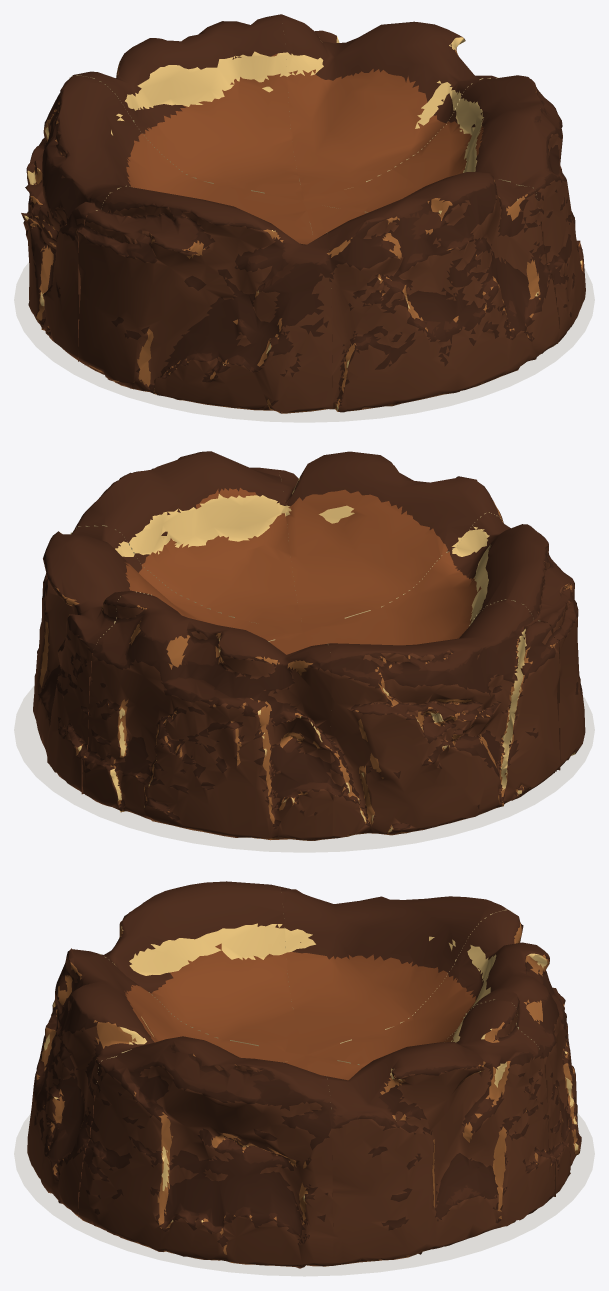
Rendered from BasqueCheesecakeSliced.gltf.
3 views of the same model, one above another, from view 1: azimuth 30°, elevation 25°; view 2: azimuth 150°, elevation 25°; view 3: azimuth 270°, elevation 25° (orthographic).
Parts seen in each view (by area): view 1: Slice4, Slice5, Slice1, Slice2, Slice3, Slice6, Board; view 2: Slice2, Slice3, Slice6, Slice5, Slice4, Slice1, Board; view 3: Slice6, Slice1, Slice4, Slice3, Slice5, Slice2, Board.
Boxes of the visible parts, x1,y1,x2,y2 form: Slice4: (78,186,332,413); Slice5: (304,172,559,412); Slice1: (281,14,498,201); Slice2: (69,14,304,201); Slice3: (21,75,303,365); Slice6: (305,75,585,343); Board: (14,262,594,422); Slice2: (81,592,332,840); Slice3: (304,599,560,838); Slice6: (70,451,304,631); Slice5: (278,451,503,631); Slice4: (305,512,585,772); Slice1: (33,526,303,794); Board: (14,685,594,852); Slice6: (78,1036,333,1268); Slice1: (304,999,555,1265); Slice4: (98,881,304,1055); Slice3: (279,886,510,1055); Slice5: (27,948,303,1218); Slice2: (305,910,581,1196); Board: (14,1113,594,1276).
Size of the model in its own units: 3.12 by 1.14 by 3.12.
1 material, 1 textured.
